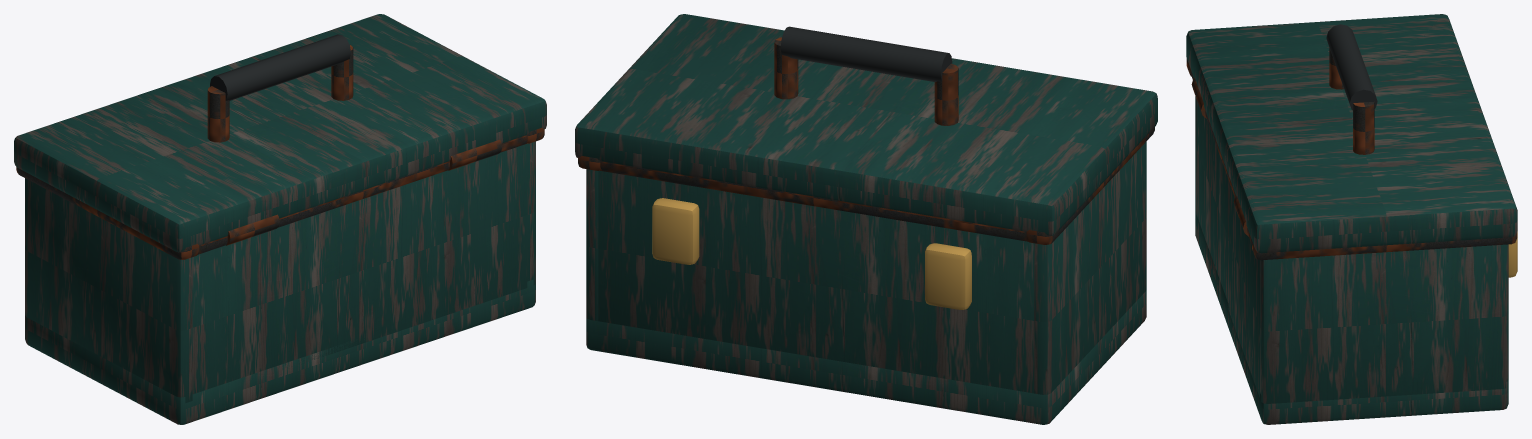
The model's file is SM_ClosedToolCase_9c4da52123.fbx.
3 renders of one model, left to right at view 1: azimuth 30°, elevation 25°; view 2: azimuth 150°, elevation 25°; view 3: azimuth 270°, elevation 25°, orthographic. The views are drawn at different scales.
Parts seen in each view (by area): view 1: SM_ClosedToolCase_9c4da52123; view 2: SM_ClosedToolCase_9c4da52123; view 3: SM_ClosedToolCase_9c4da52123.
Part boxes in pixels (x1,y1,x2,y2): SM_ClosedToolCase_9c4da52123: (14, 14, 546, 424); SM_ClosedToolCase_9c4da52123: (575, 14, 1157, 424); SM_ClosedToolCase_9c4da52123: (1186, 14, 1517, 424).
Size of what is drawn, in the model's own units: 64.17 by 42.35 by 37.8.
Materials: 4 (2 with a texture image).
